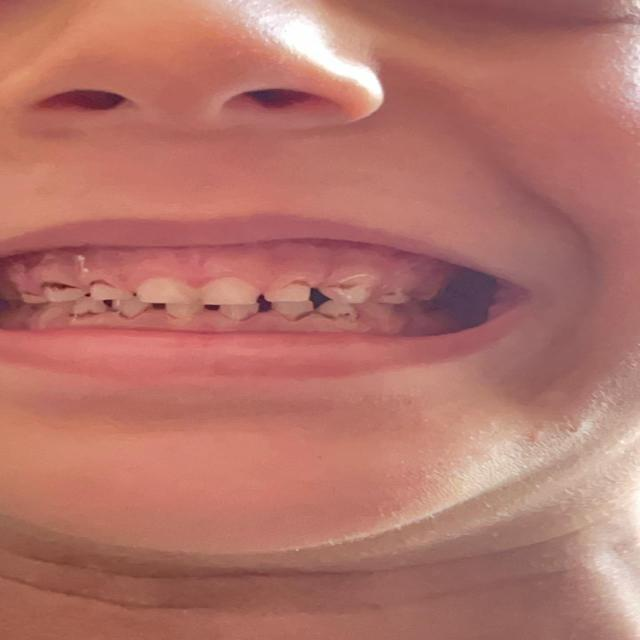tooth: (200, 277, 248, 305), (275, 277, 313, 301), (140, 284, 180, 304), (332, 284, 375, 302), (89, 283, 123, 299), (278, 301, 314, 315), (46, 285, 76, 301), (39, 304, 69, 320), (220, 303, 252, 318), (78, 305, 112, 319), (326, 305, 348, 323), (124, 303, 151, 317), (383, 290, 409, 304), (165, 306, 198, 316)
